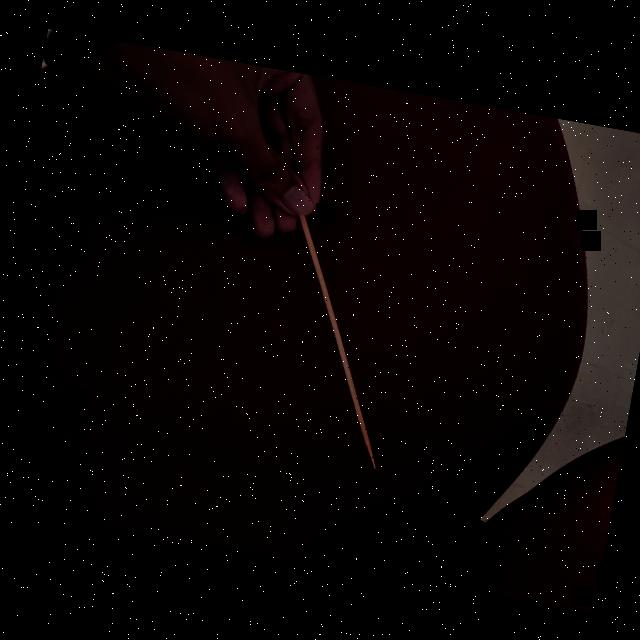stick: (248, 202, 424, 478)
